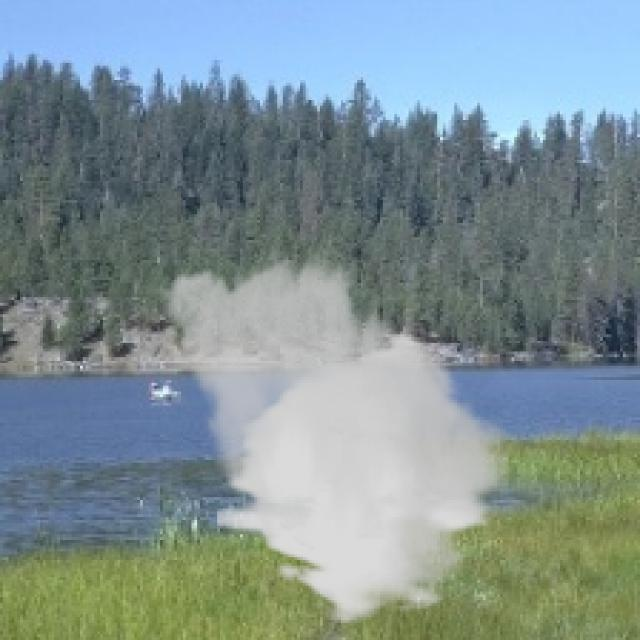smoke: (148, 245, 508, 626)
